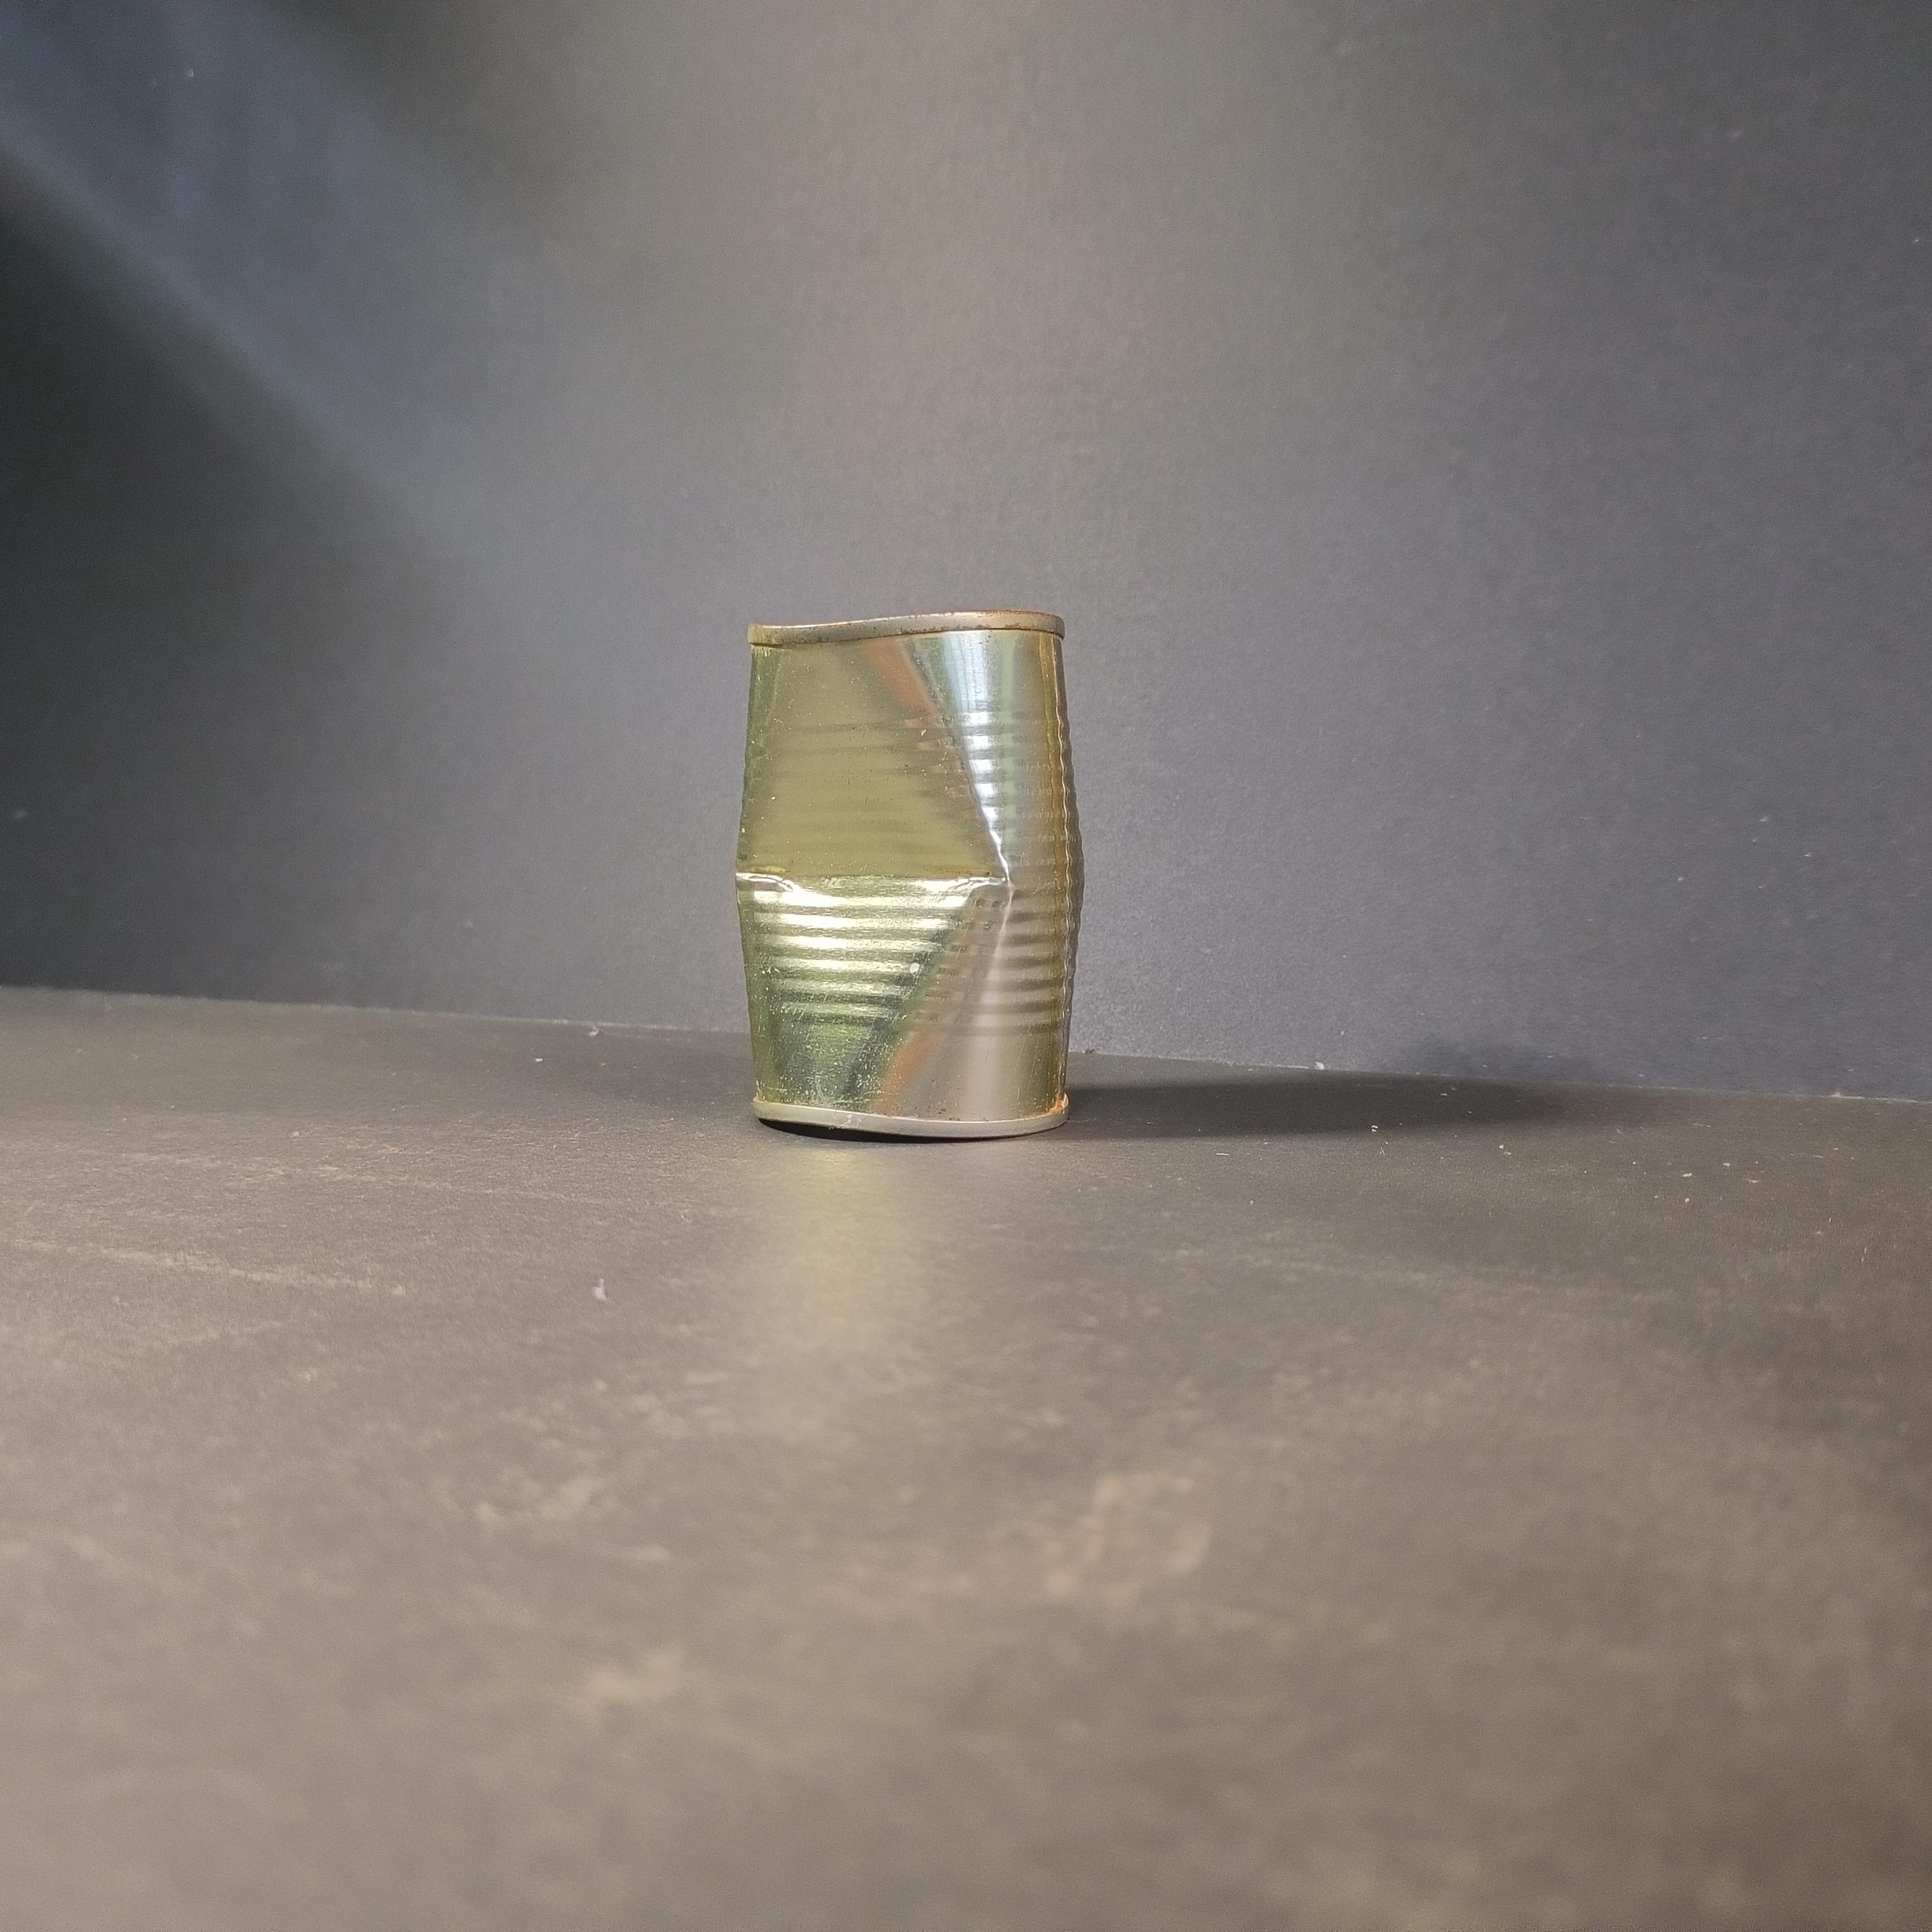Dented: (726, 593, 1113, 1163)
